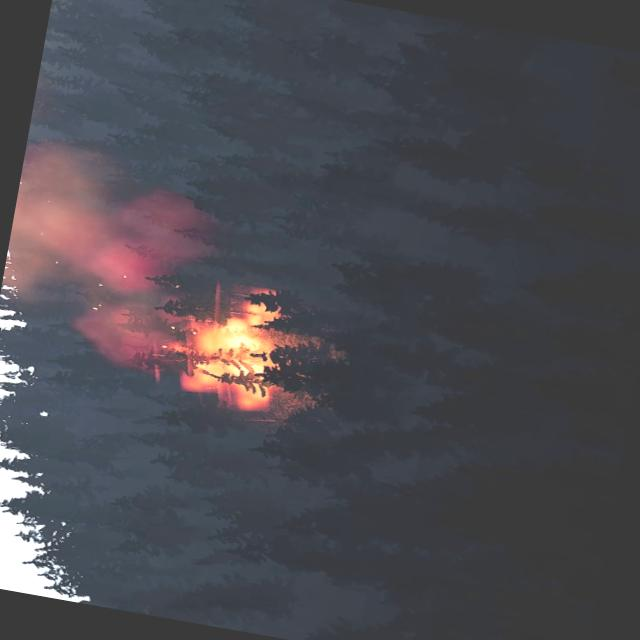fire: (148, 276, 288, 411)
smoke: (4, 139, 222, 305), (68, 294, 193, 376)
